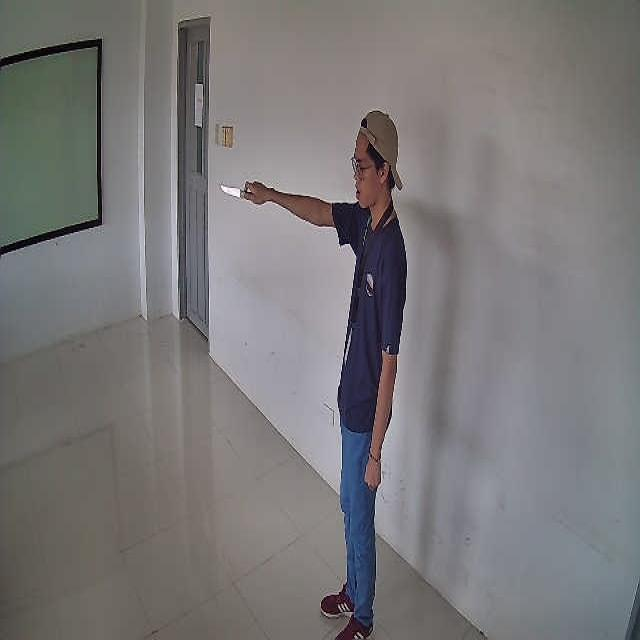knife: (220, 184, 249, 200)
